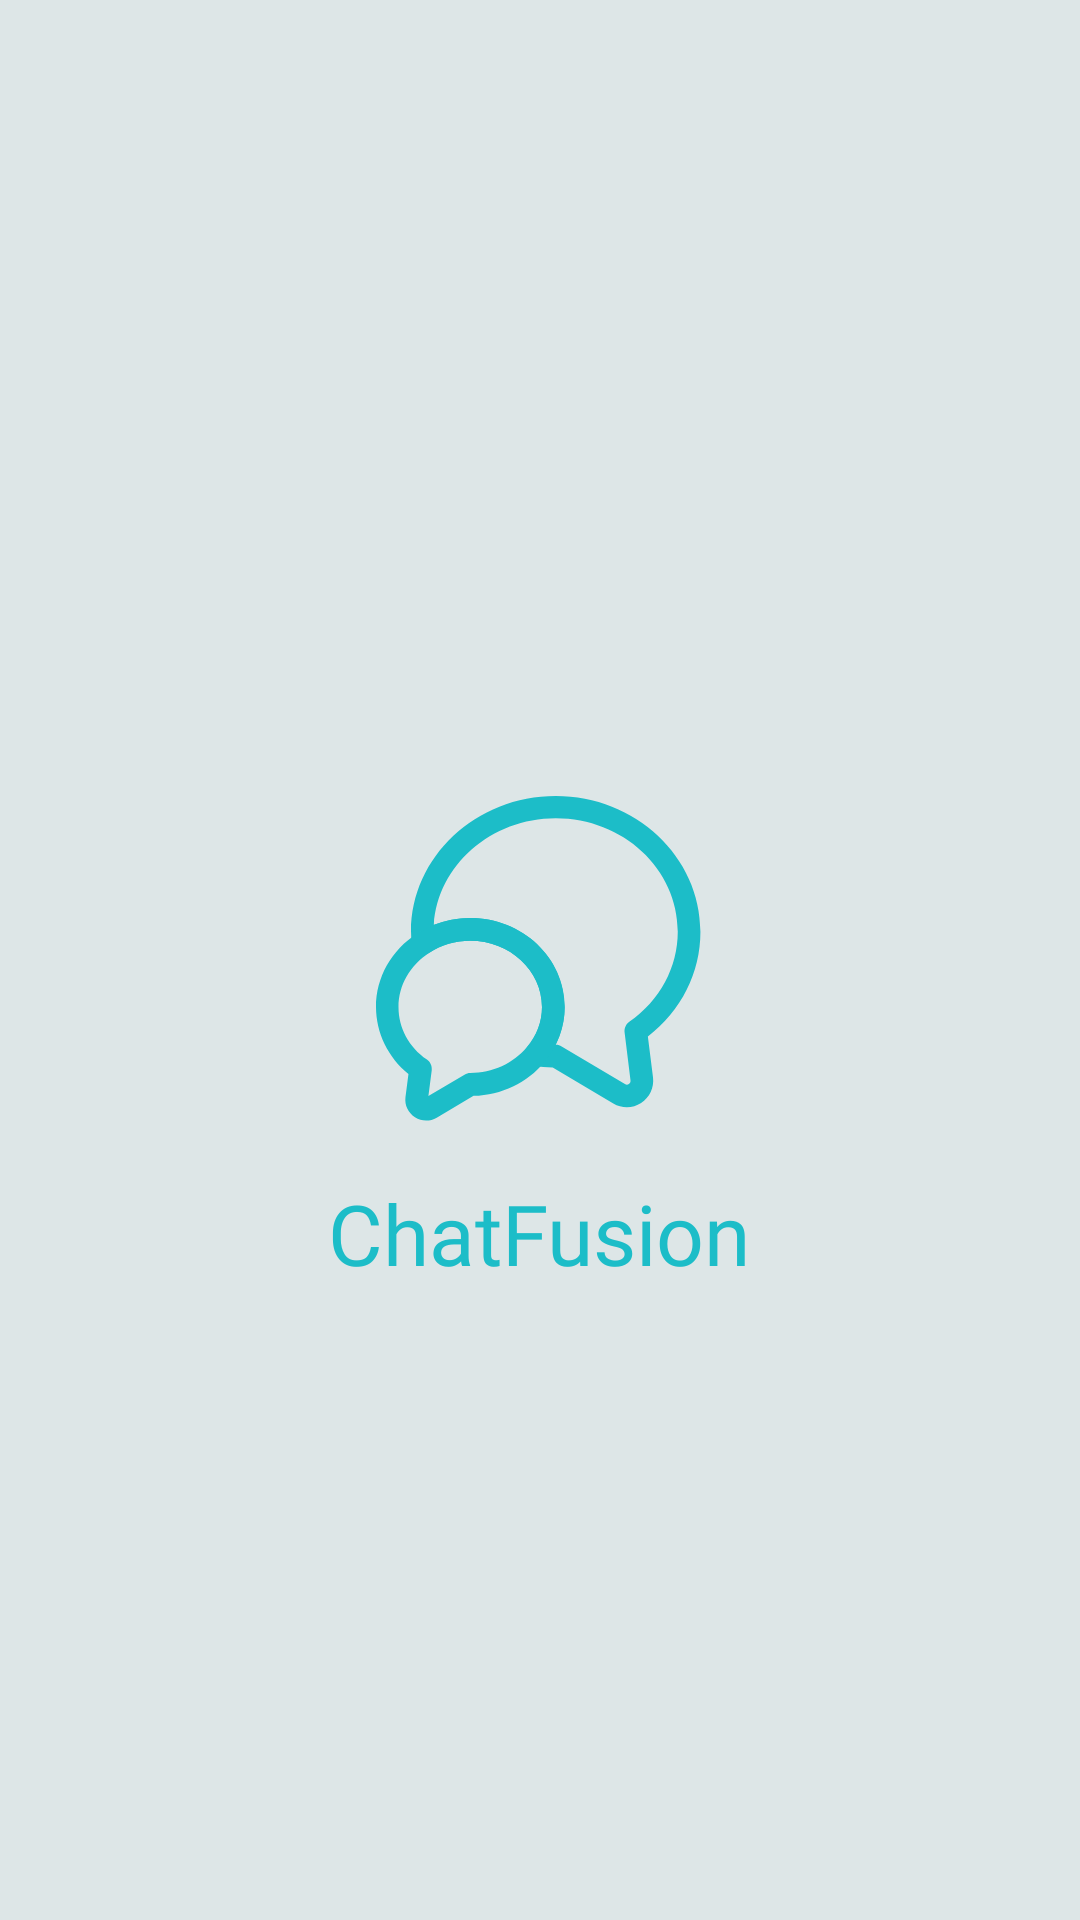

Icons on this 1080 x 1920 Android screen, each with the point to tap as point (x, y):
messages: point (538, 958)
